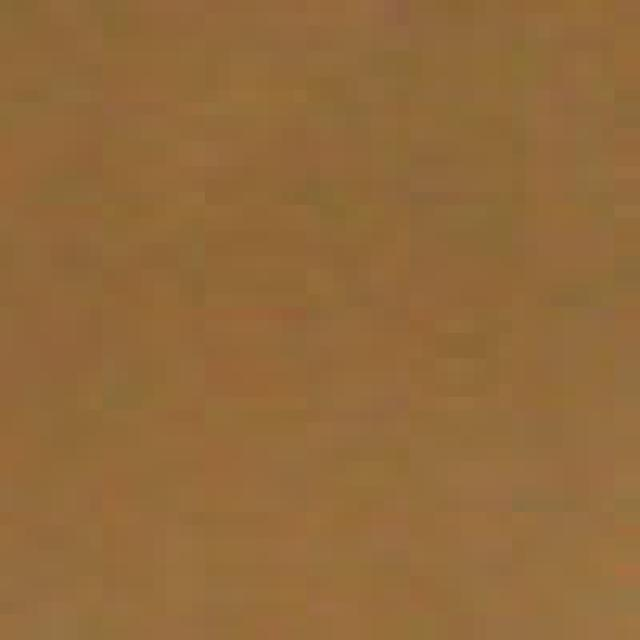fire: (0, 17, 640, 626)
